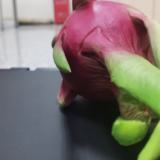pitaya: (52, 1, 160, 160)
